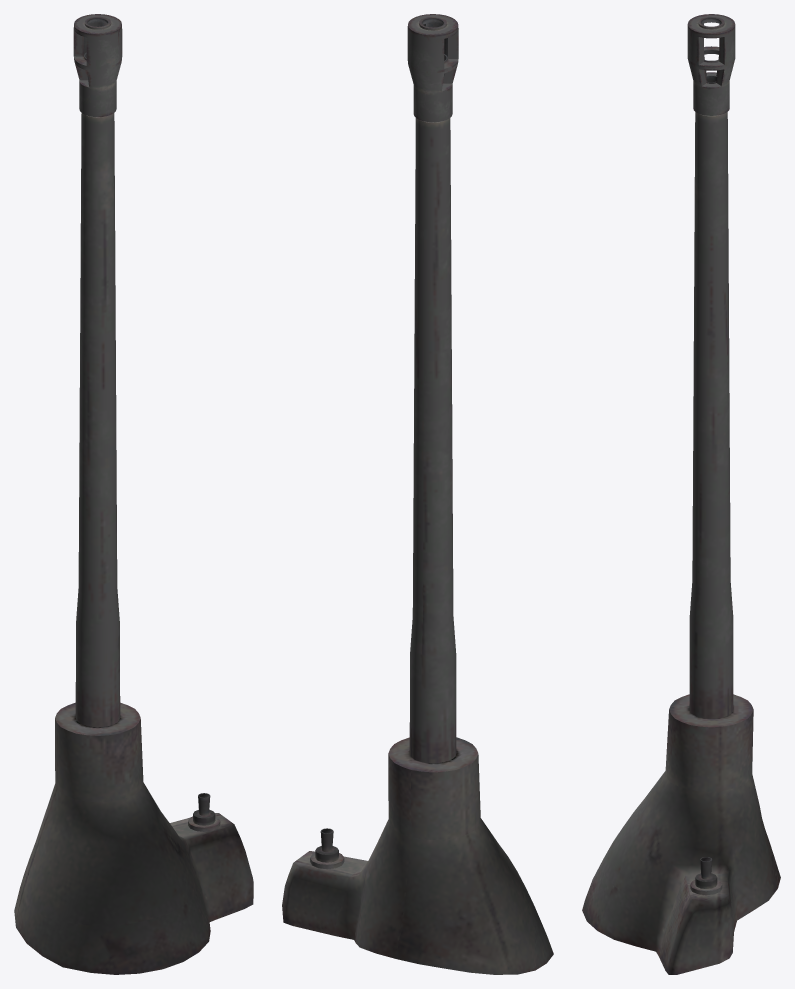
The model's file is Gun_10.glb.
3 views of the same model, side by side, from view 1: azimuth 30°, elevation 25°; view 2: azimuth 150°, elevation 25°; view 3: azimuth 270°, elevation 25° (orthographic). The views are drawn at different scales.
Parts seen in each view (by area): view 1: set_0_group_0; view 2: set_0_group_0; view 3: set_0_group_0.
Boxes of the visible parts, x1=… form: set_0_group_0: x1=14, y1=14, x2=253, y2=974; set_0_group_0: x1=282, y1=14, x2=553, y2=974; set_0_group_0: x1=582, y1=14, x2=780, y2=974.
Bounding box in the file's own units: 0.6292 × 2.42 × 0.4893.
1 material, 1 textured.
